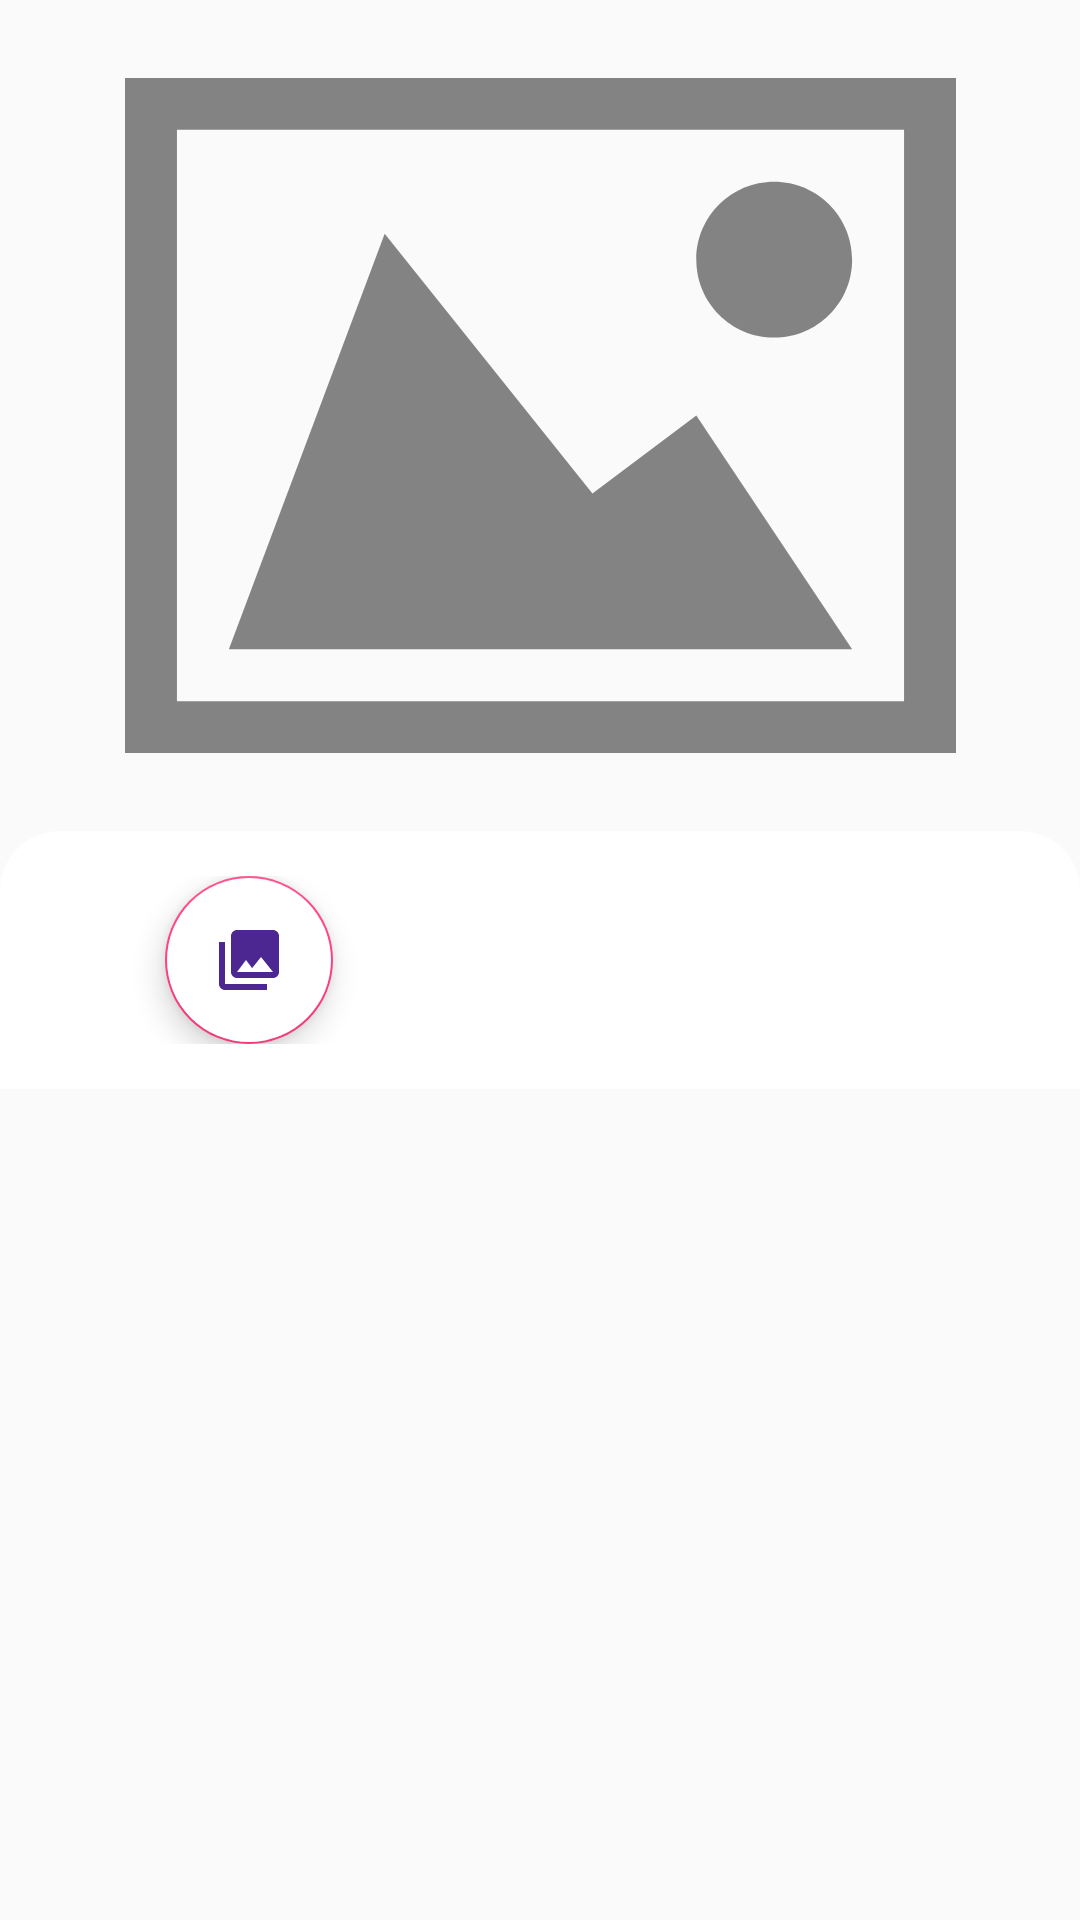

Screen size 1080px x 1920px. Icon name, then its box in pixels as (x1, y1, x2, y2):
collections: (165, 876, 333, 1044)
